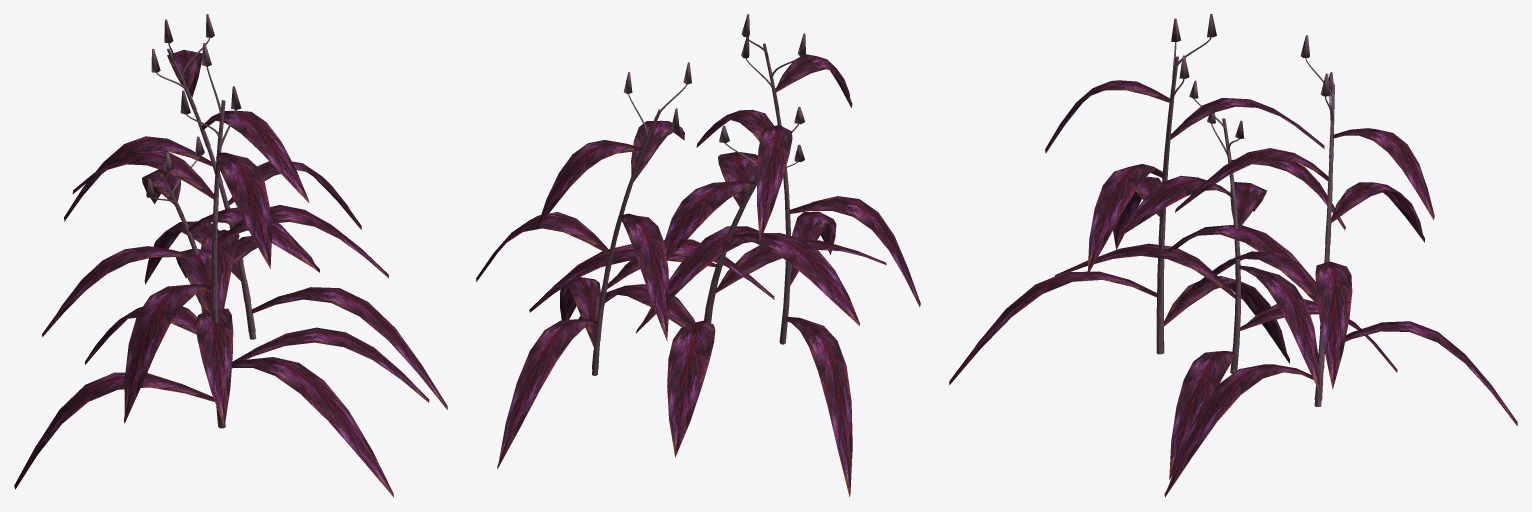
File: finegrass_01.glb
The picture shows the model from 3 angles, left to right: view 1: azimuth 30°, elevation 25°; view 2: azimuth 150°, elevation 25°; view 3: azimuth 270°, elevation 25°; orthographic projection. The views are drawn at different scales.
Parts seen in each view (by area): view 1: export; view 2: export; view 3: export.
Boxes of the visible parts, box(x1,y1,x2,y2) form: export: box(14, 14, 447, 497); export: box(476, 14, 920, 496); export: box(949, 14, 1517, 497).
Size of the model in its own units: 0.9586 by 1.09 by 1.34.
2 materials, 2 textured.
